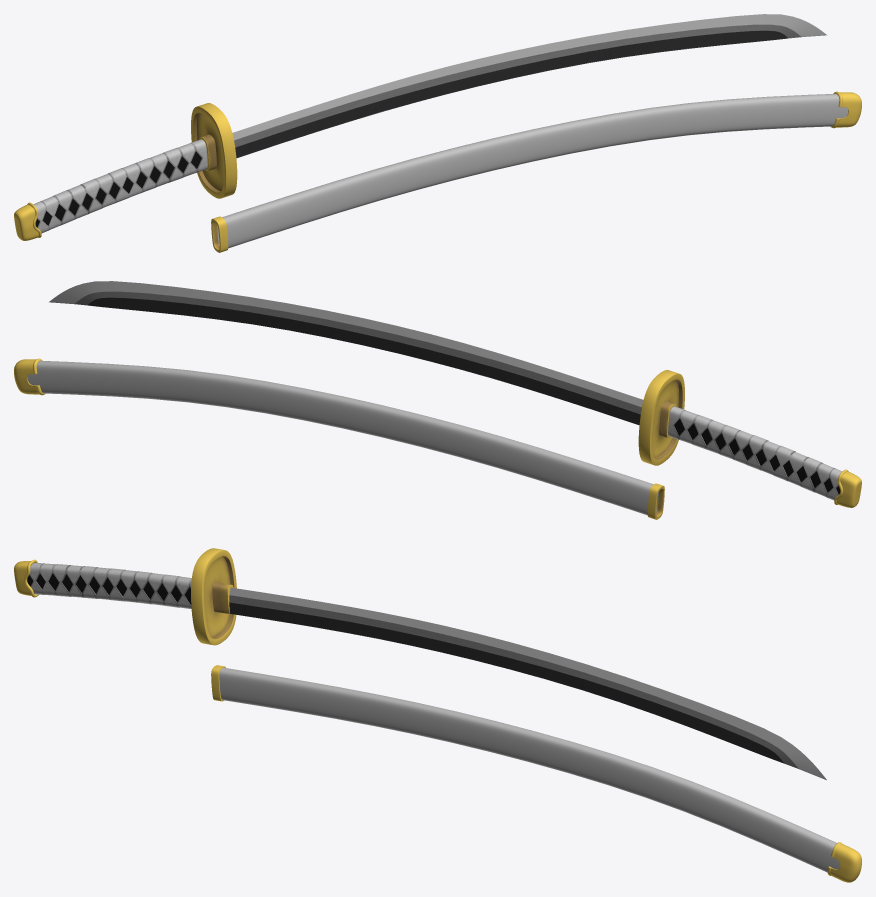
File: wado_ichimonji_1k.glb
3 views of the same model, one above another, from view 1: azimuth 30°, elevation 25°; view 2: azimuth 150°, elevation 25°; view 3: azimuth 330°, elevation 25° (orthographic).
Parts seen in each view (by area): view 1: scabbard_low, blade_low, handle.steel_low, handle_low, handle.acc1_low, scabbard.acc1_low, scabbard.steel_low; view 2: scabbard_low, blade_low, handle.steel_low, handle_low, handle.acc1_low, scabbard.acc1_low, scabbard.steel_low; view 3: scabbard_low, blade_low, handle.steel_low, handle_low, scabbard.acc1_low.
Part boxes in pixels (left/top/right/bottom): scabbard_low: left=217, top=93, right=848, bottom=248; blade_low: left=232, top=14, right=826, bottom=158; handle.steel_low: left=191, top=103, right=237, bottom=198; handle_low: left=35, top=151, right=201, bottom=227; handle.acc1_low: left=14, top=204, right=38, bottom=240; scabbard.acc1_low: left=836, top=92, right=861, bottom=127; scabbard.steel_low: left=211, top=216, right=228, bottom=252; scabbard_low: left=27, top=360, right=658, bottom=515; blade_low: left=49, top=281, right=643, bottom=425; handle.steel_low: left=638, top=370, right=684, bottom=465; handle_low: left=674, top=418, right=840, bottom=494; handle.acc1_low: left=837, top=471, right=861, bottom=507; scabbard.acc1_low: left=14, top=359, right=39, bottom=394; scabbard.steel_low: left=647, top=483, right=664, bottom=519; scabbard_low: left=219, top=667, right=840, bottom=872; blade_low: left=223, top=587, right=826, bottom=780; handle.steel_low: left=191, top=548, right=236, bottom=645; handle_low: left=27, top=573, right=191, bottom=604; scabbard.acc1_low: left=830, top=843, right=861, bottom=882.
Bounding box in the file's own units: 1.33 × 0.2613 × 0.0931.
1 material, 1 textured.
